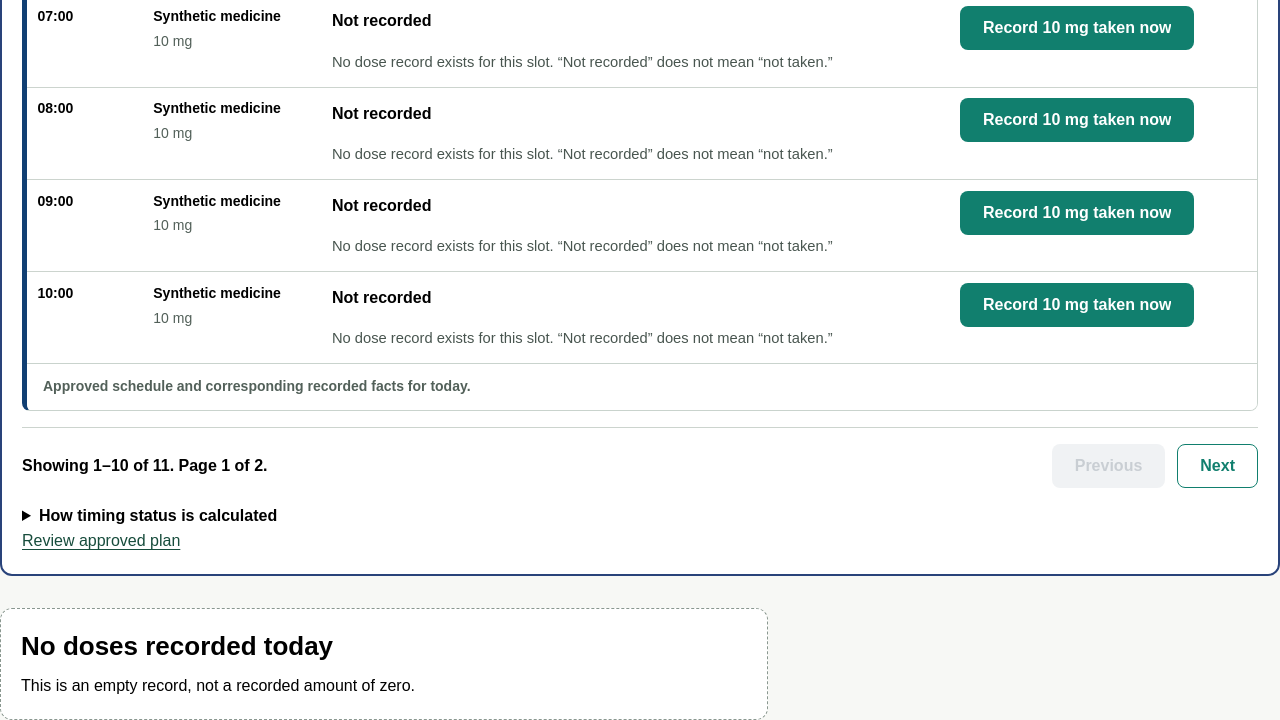
Test case: Today page › keeps table pagination in the URL
(page scrolled)
Expected: the navigation bar named "Today's approved schedule pagination" is shown, 22,427 -> 1258,488
Click the button "Next" at coordinates (1218, 466), box 1177,444 -> 1258,488
(page scrolled)
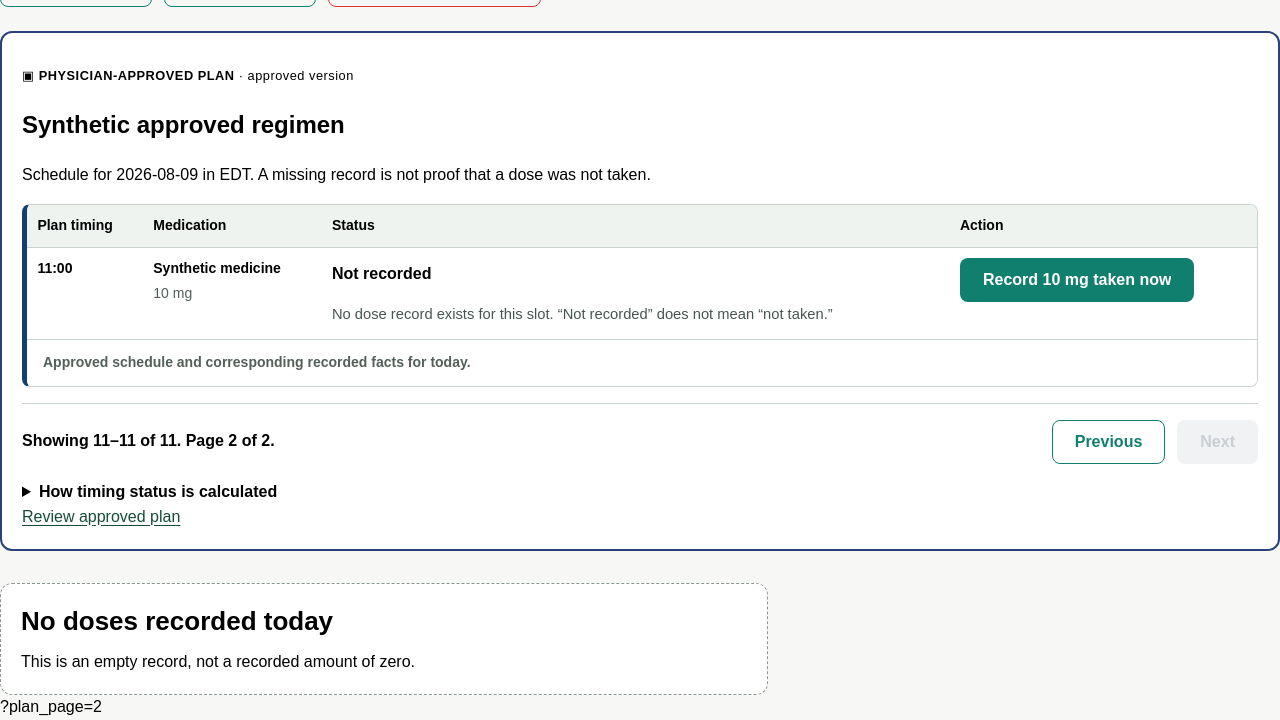
Now the text with test id "location-search" reads "?plan_page=2", box 0,698 -> 102,715
Now the text "Showing 11–11 of 11. Page 2 of 2." is shown, box 22,430 -> 275,454
